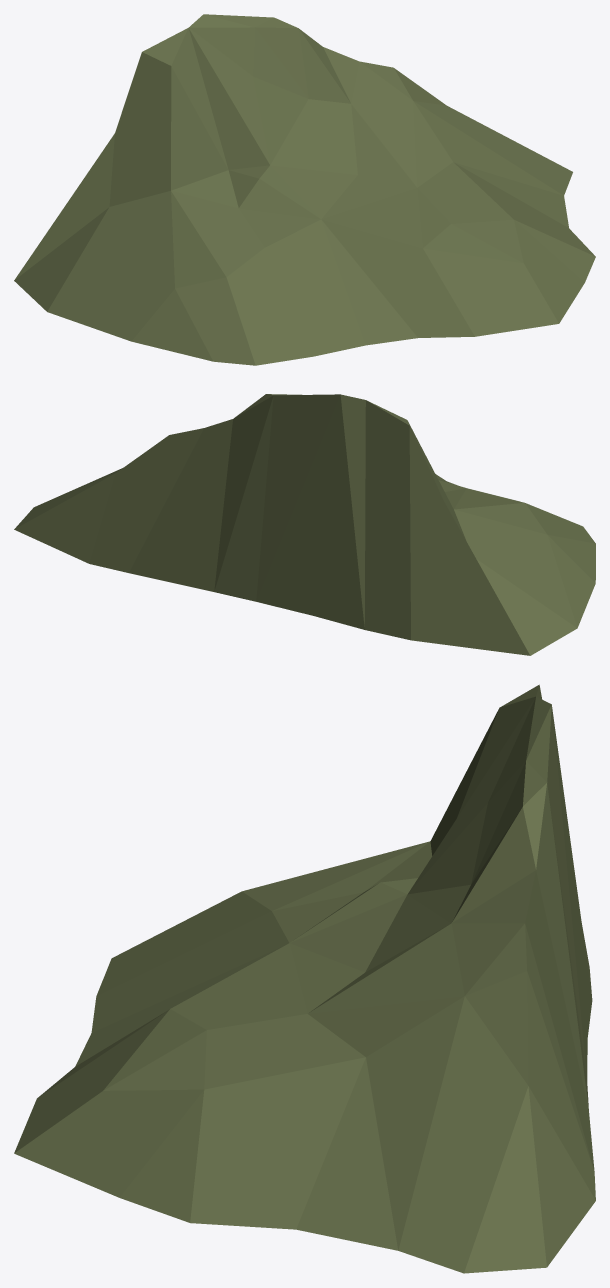
File: SM_Env_Grass_WallEdge_01.fbx
3 views of the same model, one above another, from view 1: azimuth 30°, elevation 25°; view 2: azimuth 150°, elevation 25°; view 3: azimuth 270°, elevation 25° (orthographic). The views are drawn at different scales.
Parts seen in each view (by area): view 1: SM_Env_Grass_WallEdge_01; view 2: SM_Env_Grass_WallEdge_01; view 3: SM_Env_Grass_WallEdge_01.
Part boxes in pixels (x1,y1,x2,y2): SM_Env_Grass_WallEdge_01: [14, 14, 595, 365]; SM_Env_Grass_WallEdge_01: [14, 394, 595, 655]; SM_Env_Grass_WallEdge_01: [14, 684, 595, 1273].
Bounding box in the file's own units: 1037 × 403 × 657.
